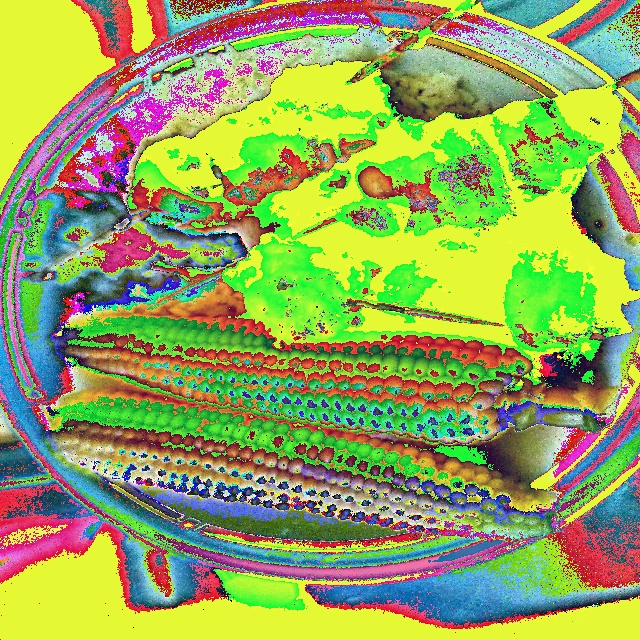background: (25, 27, 632, 541)
